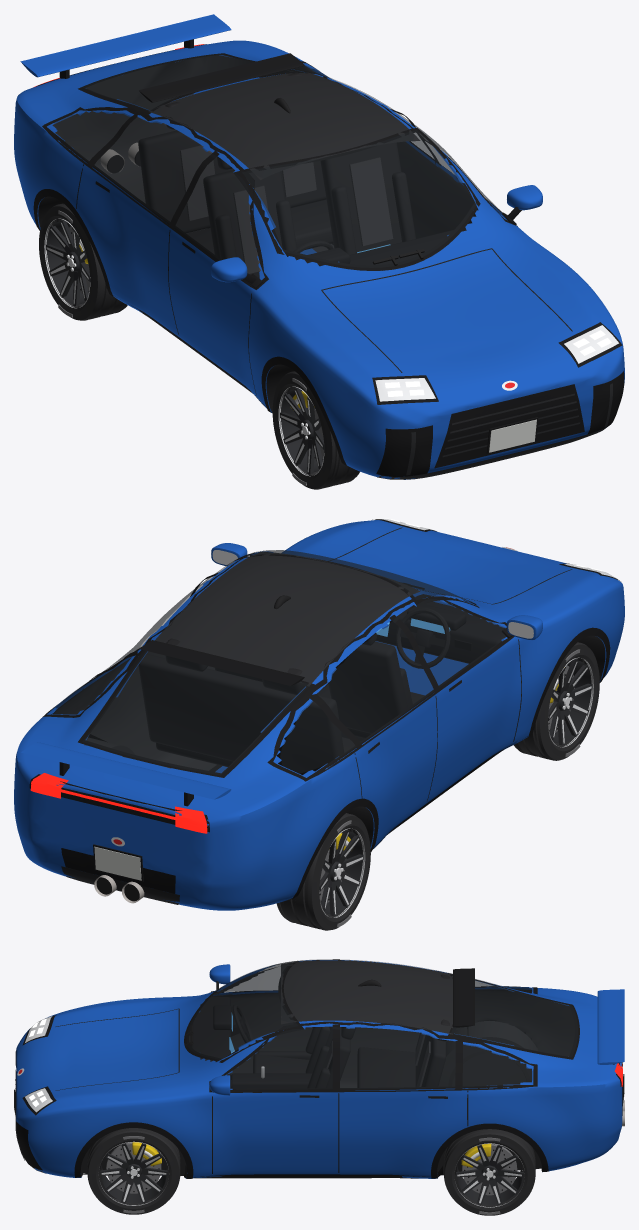
File: cayennegt.glb
3 views of the same model, one above another, from view 1: azimuth 30°, elevation 25°; view 2: azimuth 150°, elevation 25°; view 3: azimuth 270°, elevation 25° (orthographic). The views are drawn at different scales.
Parts seen in each view (by area): view 1: Body, Wheel_RR, Wheel_FR; view 2: Body, Wheel_RR, Wheel_FR; view 3: Body, Wheel_FL, Wheel_RL.
Part boxes in pixels (<box>): Body: <box>14,14,624,479</box>; Wheel_RR: <box>39,203,127,320</box>; Wheel_FR: <box>272,371,359,489</box>; Body: <box>14,518,624,910</box>; Wheel_RR: <box>276,813,370,930</box>; Wheel_FR: <box>513,642,599,760</box>; Body: <box>14,959,624,1178</box>; Wheel_FL: <box>87,1128,180,1214</box>; Wheel_RL: <box>444,1129,535,1215</box>.
Bounding box in the file's own units: 2.36 × 1.67 × 4.98.
